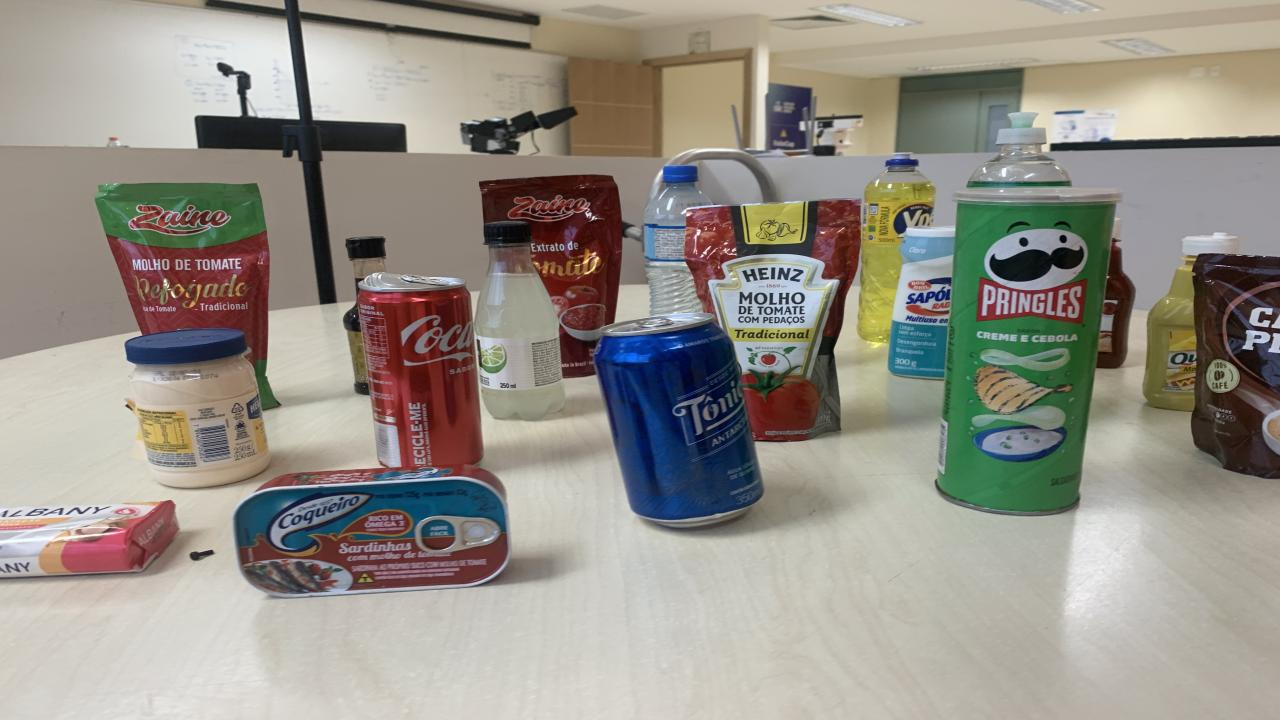Cleaner-Cleanup_Items: (888, 227, 955, 379)
Coffee-Pantry_Items: (1190, 253, 1280, 478)
Coke-Drinks: (358, 274, 482, 467), (1190, 253, 1280, 478), (978, 278, 1088, 322)
Detergent-Cleanup_Items: (858, 152, 935, 343)
Mayonnaise-Pantry_Items: (125, 328, 270, 488)
Mustard-Pantry_Items: (1142, 232, 1240, 411)
Pringles-Snacks: (935, 186, 1122, 516)
Soap-Cleanup_Items: (0, 501, 178, 578)
Soda-Drinks: (475, 221, 565, 420)
Tomato_Sauce-Pantry_Items: (685, 199, 860, 441), (95, 184, 278, 409), (480, 174, 622, 377)
Tonic-Drinks: (595, 315, 762, 527)
Tuna_Can-Pantry_Items: (232, 465, 510, 598)
Water_Bottle-Drinks: (642, 165, 710, 315)
